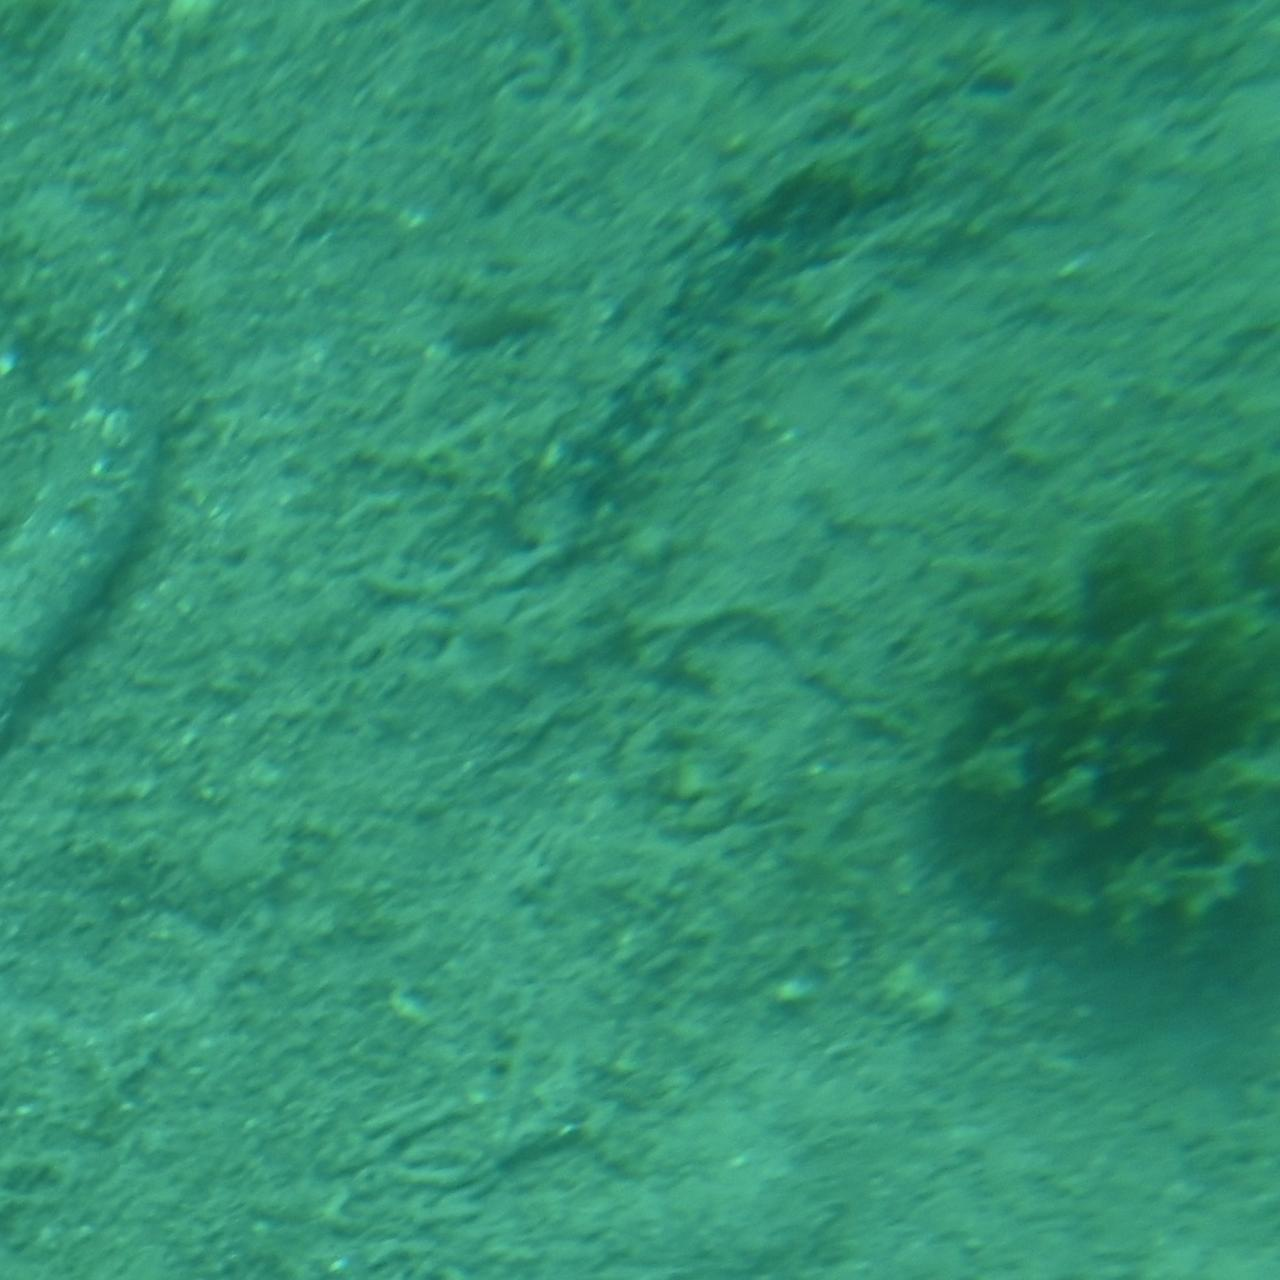Holothuria tubulosa: (493, 120, 938, 591), (0, 227, 198, 764)
Phaeophyceae -cfr Cystoseira-: (917, 445, 1280, 980)
